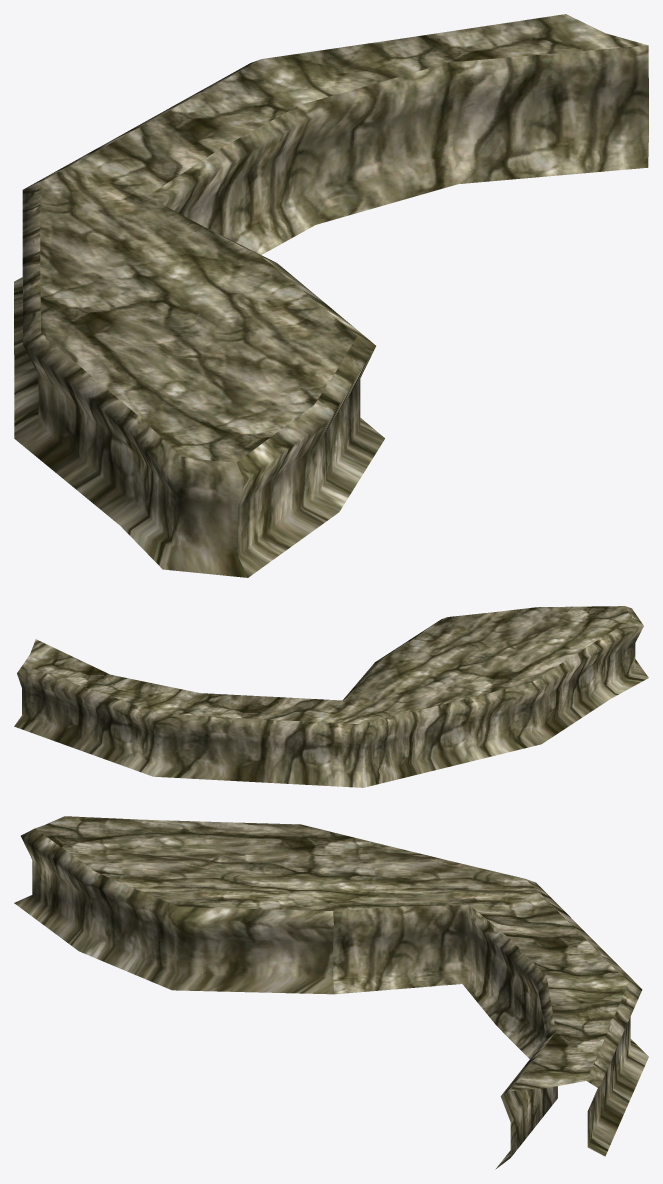
Rendered from CB_NEWPLAYSURFACE_CB_PLAYSURFACE124.fbx.
The picture shows the model from 3 angles, top to bottom: view 1: azimuth 30°, elevation 25°; view 2: azimuth 150°, elevation 25°; view 3: azimuth 270°, elevation 25°; orthographic projection. The views are drawn at different scales.
Parts seen in each view (by area): view 1: CB_NEWPLAYSURFACE_CB_PLAYSURFACE124; view 2: CB_NEWPLAYSURFACE_CB_PLAYSURFACE124; view 3: CB_NEWPLAYSURFACE_CB_PLAYSURFACE124.
Boxes of the visible parts, x1=… form: CB_NEWPLAYSURFACE_CB_PLAYSURFACE124: x1=14, y1=14, x2=648, y2=577; CB_NEWPLAYSURFACE_CB_PLAYSURFACE124: x1=14, y1=606, x2=648, y2=787; CB_NEWPLAYSURFACE_CB_PLAYSURFACE124: x1=14, y1=816, x2=648, y2=1169.
Size of the model in its own units: 219801 by 30049 by 208253.
Materials: 2 (2 with a texture image).
